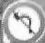Don't turn left: (4, 2, 41, 37)
